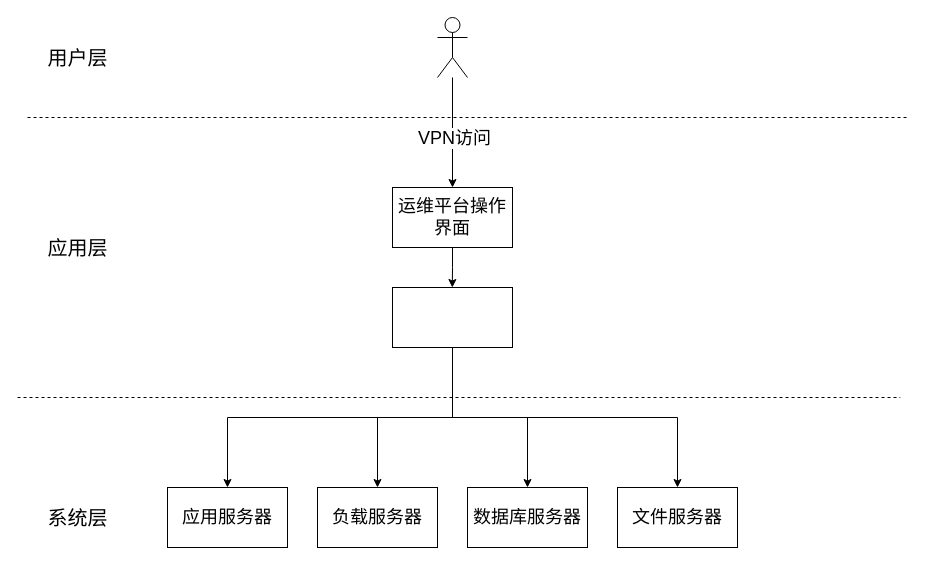
The diagram is 926 pixels wide and 565 high, and some of its shapes have lost their labels. Here are the shapes that lost their labels. From the top down, the box of each, then its label:
(436, 16, 468, 78): 运维人员
(392, 286, 512, 348): 运维平台服务端、数据库
